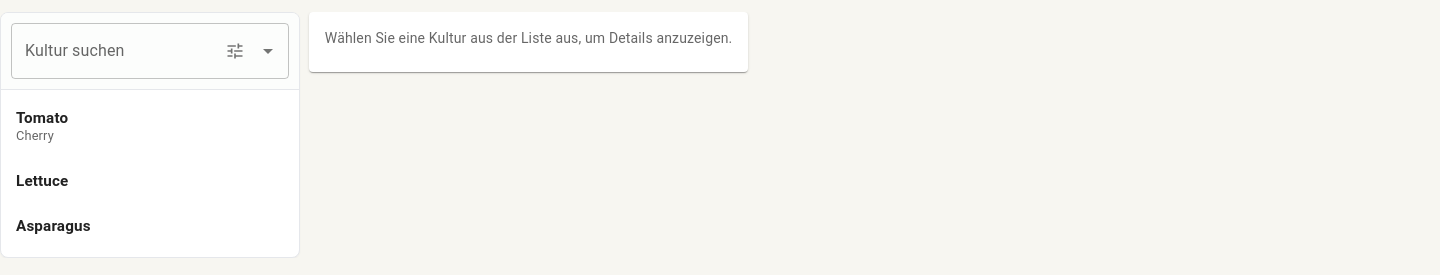
Test: CultureDetail Component › shows filter empty-state when cultures exist but filters have no matches
In the dropdown labelled "Kultur suchen": (120, 51) [20,32,220,70], type "ZZZ-kein-treffer"
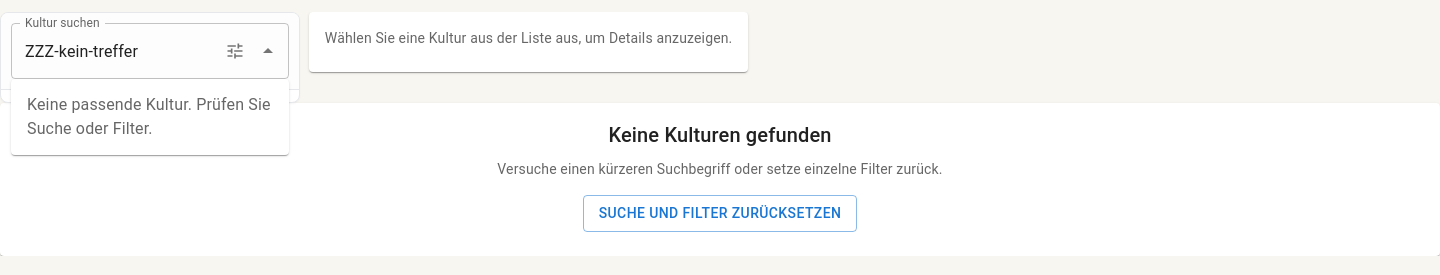
Now the heading "Keine Kulturen gefunden" is shown, box [608,123,832,147]
Now the button "Suche und Filter zurücksetzen" is shown, box [583,195,857,232]
